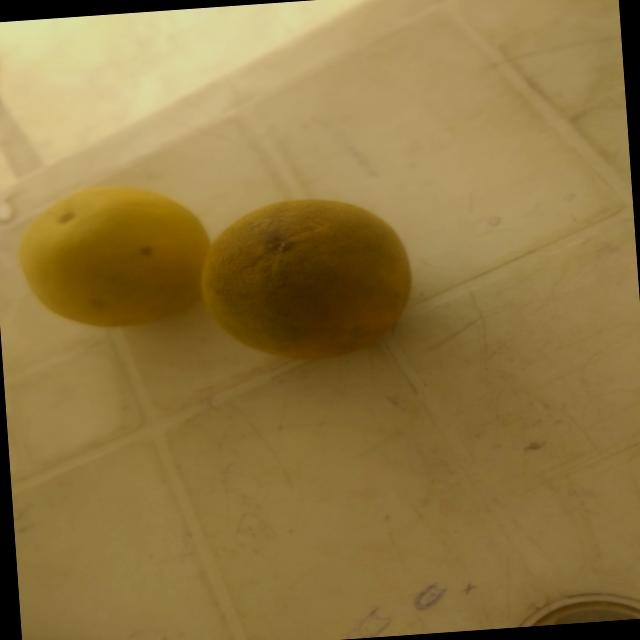agrume: (193, 187, 431, 392), (13, 171, 211, 366)
